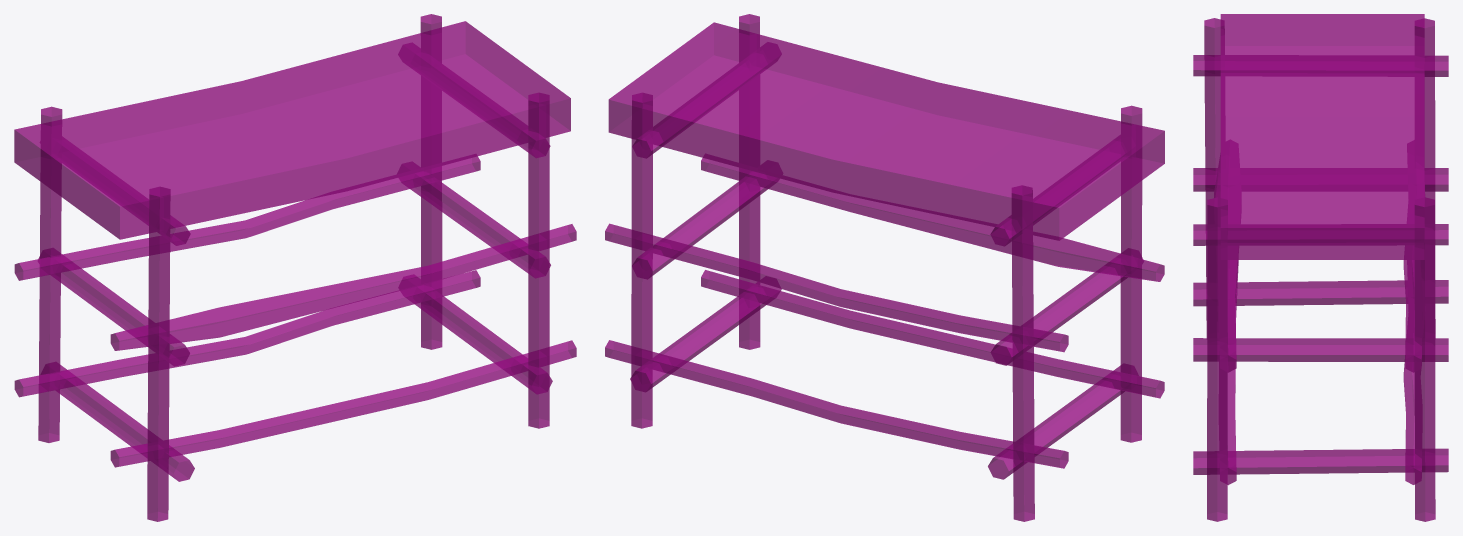
The model's file is SM_Prop_Scaffolding_01_Collision.fbx.
3 renders of one model, left to right at view 1: azimuth 30°, elevation 25°; view 2: azimuth 150°, elevation 25°; view 3: azimuth 270°, elevation 25°, orthographic. The views are drawn at different scales.
Parts seen in each view (by area): view 1: SM_Prop_Scaffolding_01_Collision; view 2: SM_Prop_Scaffolding_01_Collision; view 3: SM_Prop_Scaffolding_01_Collision.
Boxes of the visible parts, left/top/right/bottom form: SM_Prop_Scaffolding_01_Collision: left=14, top=14, right=576, bottom=521; SM_Prop_Scaffolding_01_Collision: left=605, top=14, right=1164, bottom=521; SM_Prop_Scaffolding_01_Collision: left=1193, top=14, right=1448, bottom=521.
Bounding box in the file's own units: 564 × 385 × 283.
